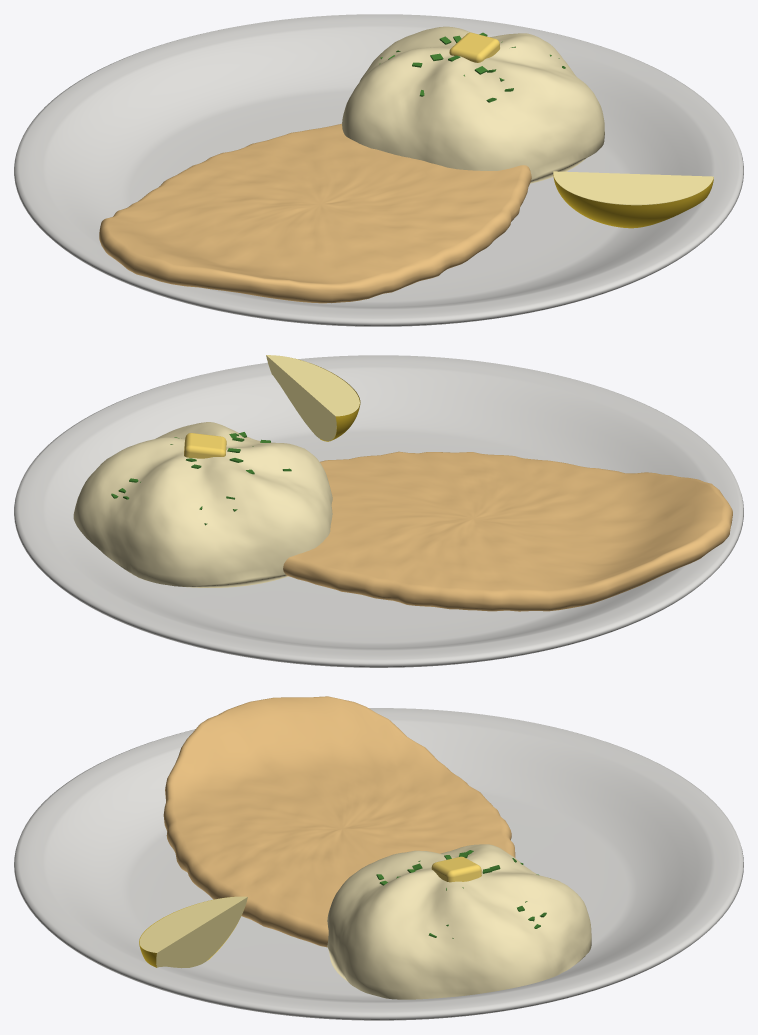
The model's file is i-una-pieza.glb.
The picture shows the model from 3 angles, top to bottom: view 1: azimuth 30°, elevation 25°; view 2: azimuth 150°, elevation 25°; view 3: azimuth 270°, elevation 25°; orthographic projection.
Parts seen in each view (by area): view 1: Plato, Milanesa, Pure, Pulpa de limon, Cascara de limon, Mantequilla, Perejil; view 2: Plato, Milanesa, Pure, Pulpa de limon, Mantequilla, Perejil; view 3: Plato, Milanesa, Pure, Pulpa de limon, Mantequilla, Perejil.
Part boxes in pixels (bbox=[...]): Plato: bbox=[14, 14, 743, 326]; Milanesa: bbox=[99, 123, 531, 303]; Pure: bbox=[342, 26, 604, 183]; Pulpa de limon: bbox=[553, 171, 713, 205]; Cascara de limon: bbox=[553, 175, 713, 228]; Mantequilla: bbox=[449, 32, 499, 62]; Perejil: bbox=[379, 32, 565, 102]; Plato: bbox=[14, 355, 743, 667]; Milanesa: bbox=[283, 451, 732, 611]; Pure: bbox=[73, 422, 332, 587]; Pulpa de limon: bbox=[266, 355, 359, 440]; Mantequilla: bbox=[184, 433, 226, 458]; Perejil: bbox=[111, 432, 291, 525]; Plato: bbox=[14, 708, 743, 1020]; Milanesa: bbox=[163, 696, 515, 947]; Pure: bbox=[327, 844, 591, 999]; Pulpa de limon: bbox=[139, 896, 247, 968]; Mantequilla: bbox=[431, 856, 481, 882]; Perejil: bbox=[376, 850, 546, 938].
Bounding box in the file's own units: 0.2812 × 0.0489 × 0.2812.
